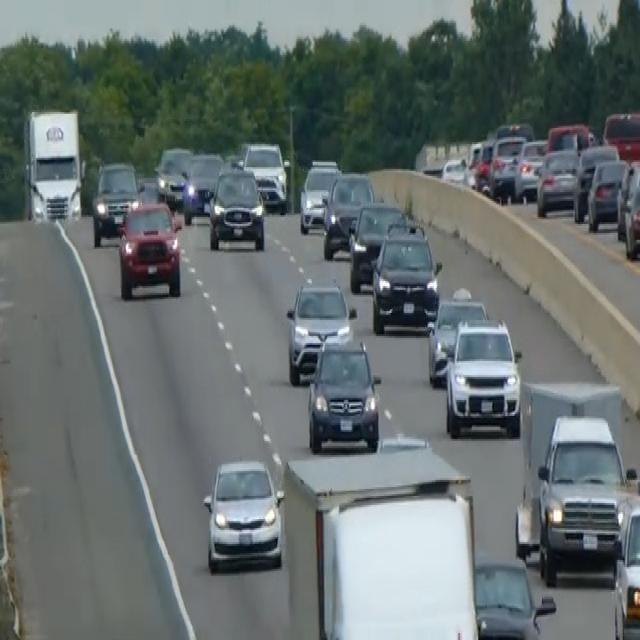car: (202, 455, 285, 573), (444, 315, 522, 437), (306, 332, 381, 452), (370, 226, 441, 334), (285, 279, 356, 384), (473, 553, 556, 638), (425, 288, 487, 386), (347, 199, 405, 292), (207, 162, 265, 250), (321, 169, 374, 259), (91, 158, 140, 245), (613, 491, 639, 636), (572, 142, 619, 220), (241, 139, 288, 213), (586, 157, 629, 231), (298, 158, 340, 233), (535, 146, 579, 217), (182, 149, 223, 224), (488, 131, 525, 201), (155, 144, 192, 206), (514, 137, 547, 201), (602, 108, 639, 162), (616, 158, 639, 240), (464, 137, 493, 192), (546, 121, 591, 153), (623, 174, 639, 260), (440, 155, 467, 185)
jeep: (115, 196, 183, 302)
lorry: (21, 105, 85, 226)
truck: (535, 409, 636, 585)
